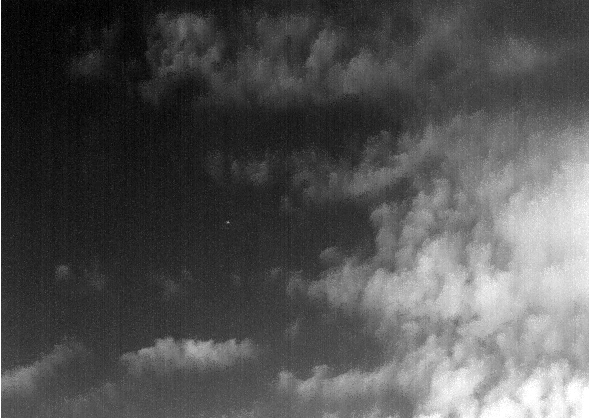dim target: (225, 219, 231, 225)
